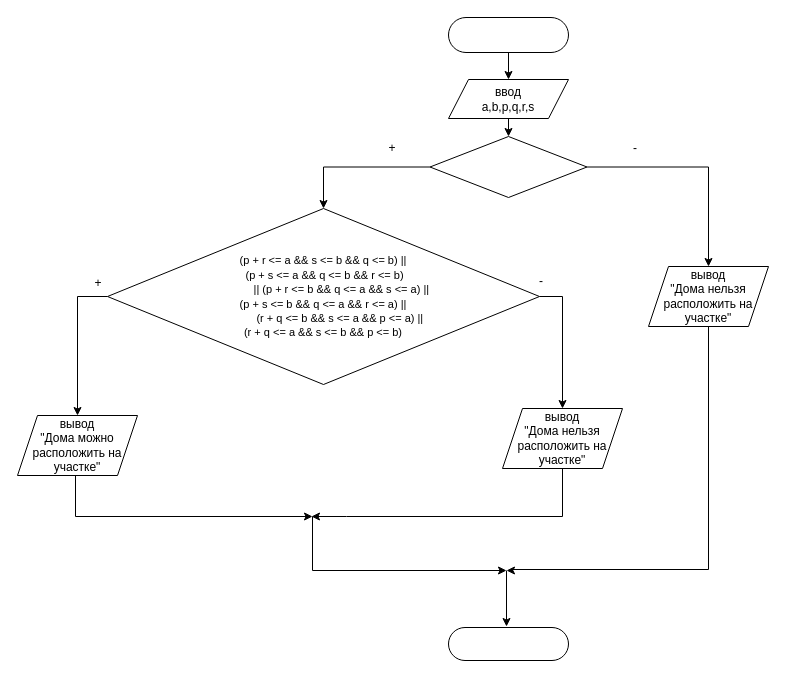
Some shapes in this 786 by 678 pixel diagram are drawn without their labels. The shapes that lost their labels are listed below. From the top down, each one's centre as x and y in pixels, then its label:
the point at 508,34: начало
the point at 508,167: a * b >= p * q + r * s
the point at 508,643: конец
